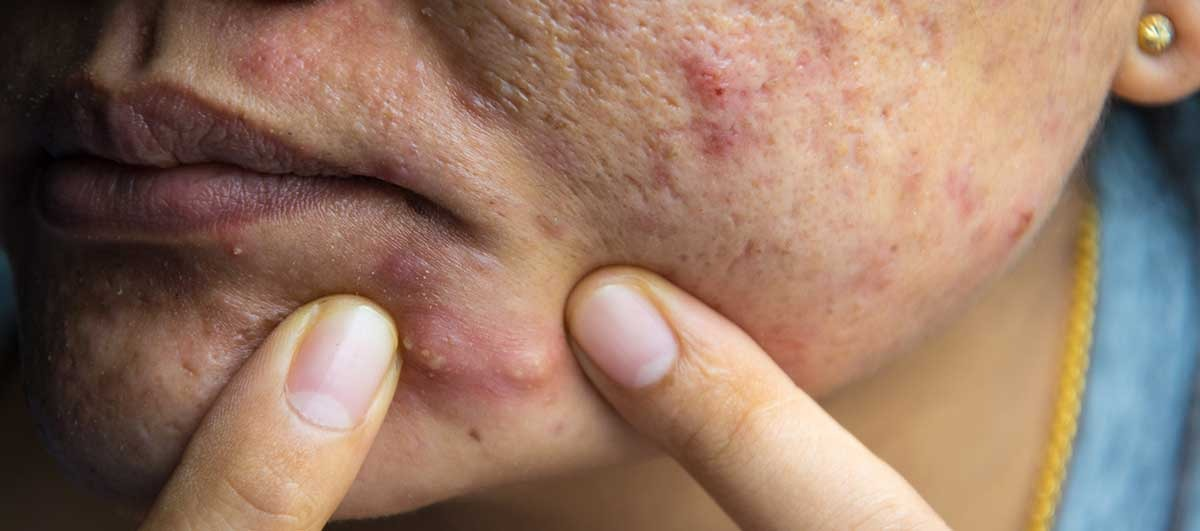Acne: (181, 35, 852, 409)
